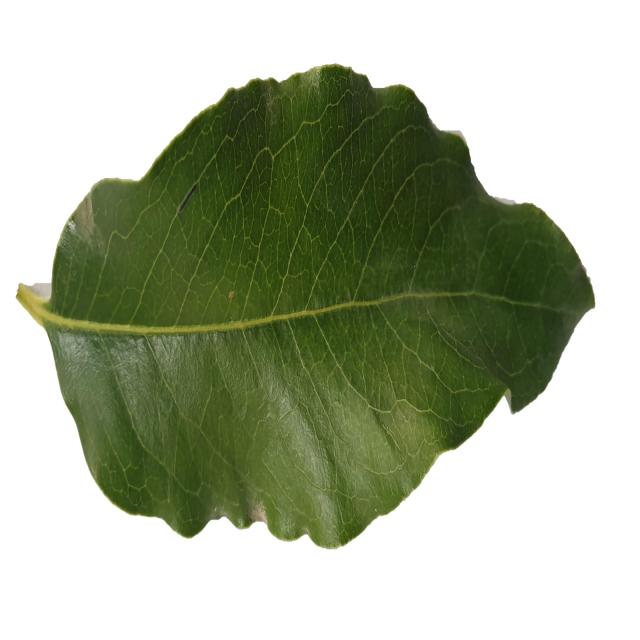Medicinal-Sandalwood: (16, 62, 597, 545)
